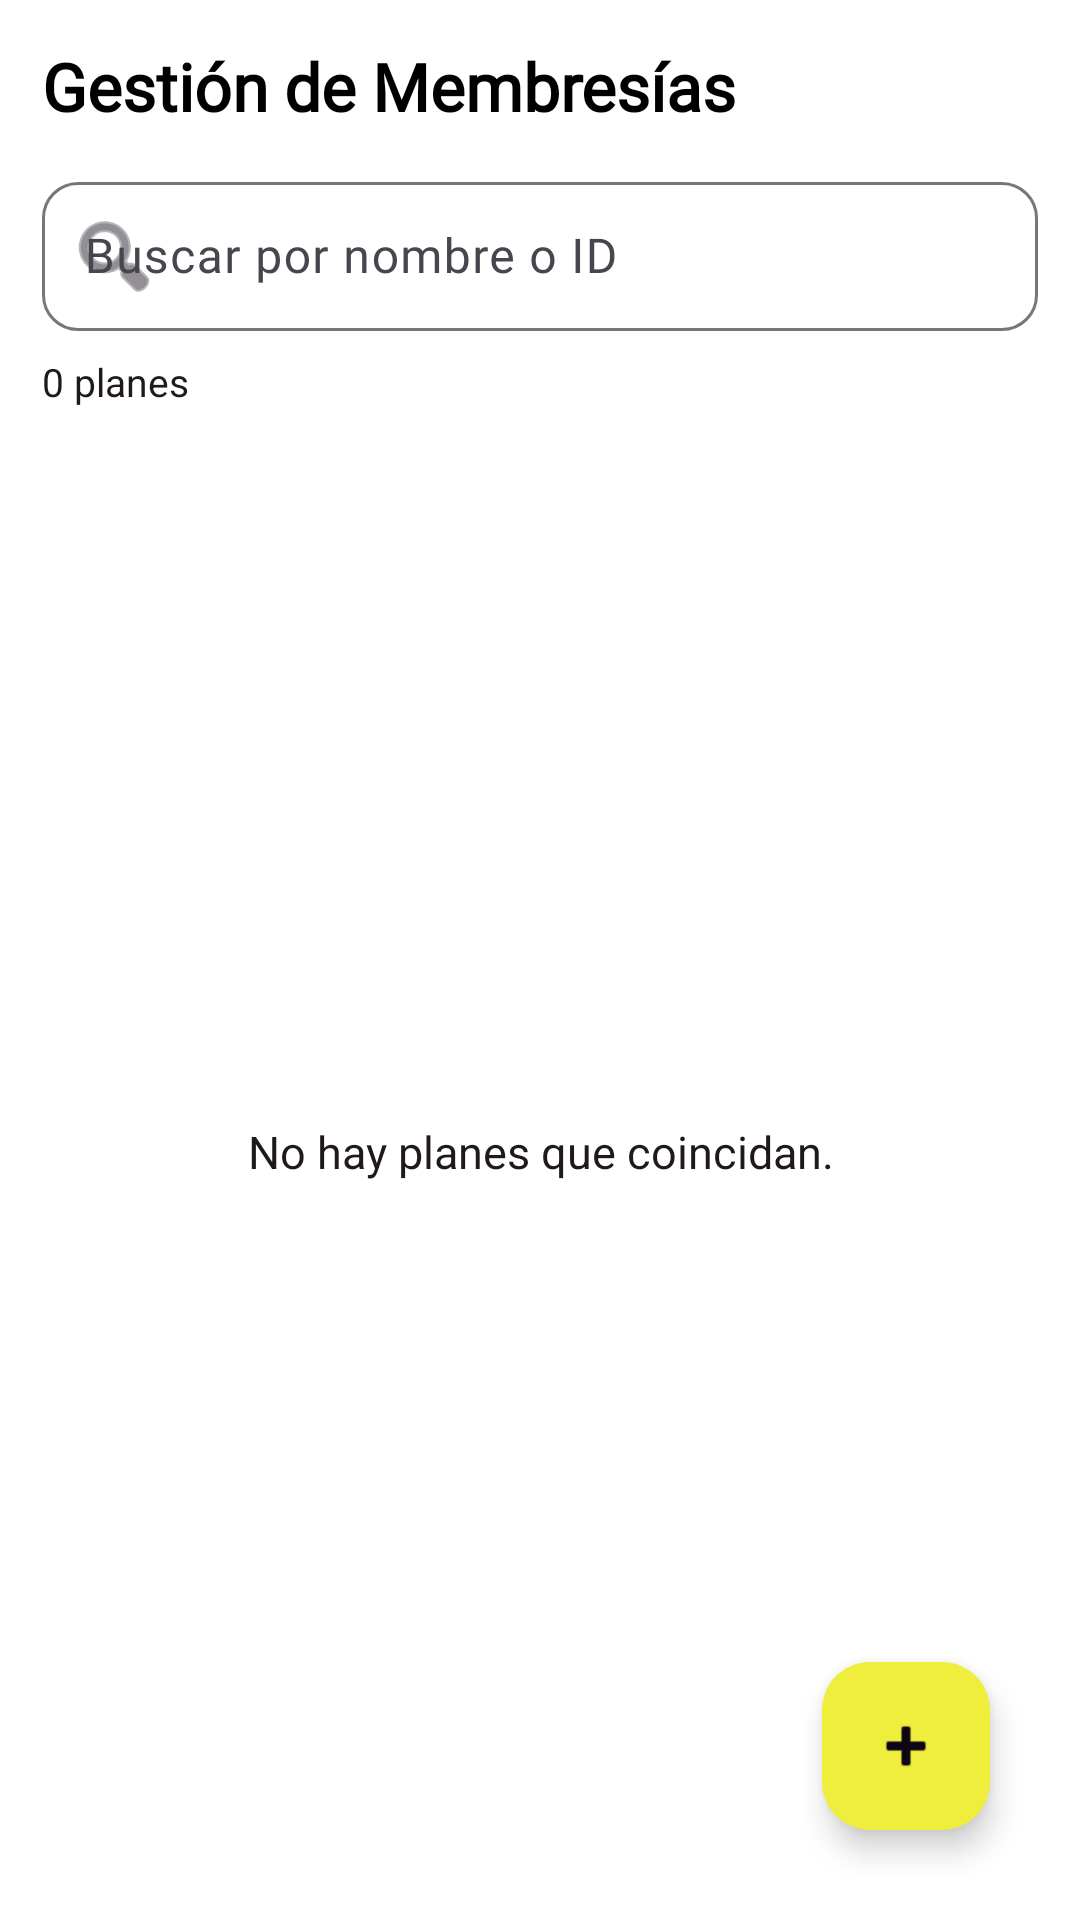

Screen size 1080 x 1920. Icon name, then its box in pixels as (x1, y1, x2, y2):
Crear membresía: (822, 1662, 990, 1830)
